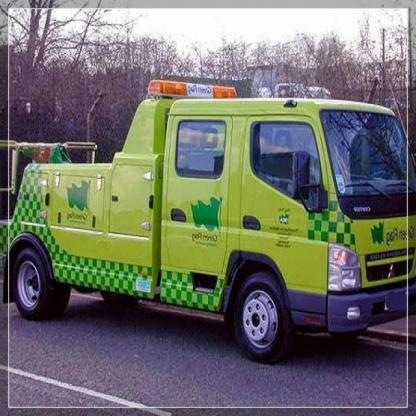truck: (1, 79, 405, 365)
